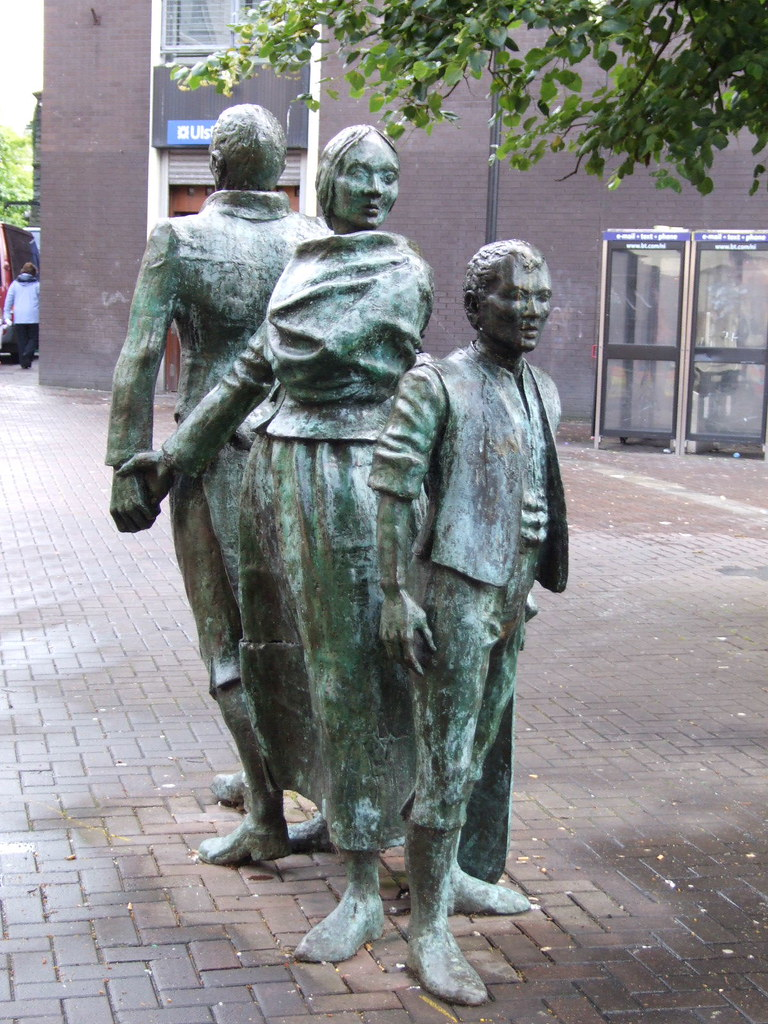person-like: (117, 120, 445, 969), (101, 97, 329, 872), (371, 231, 578, 1012)
